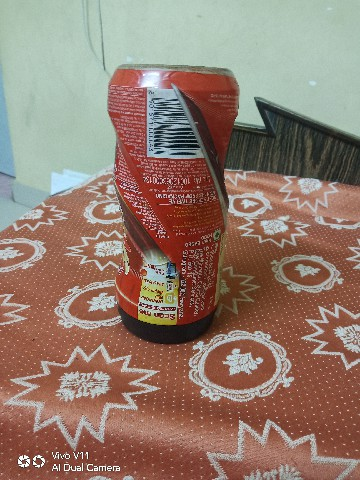boost big: (103, 56, 247, 350)
